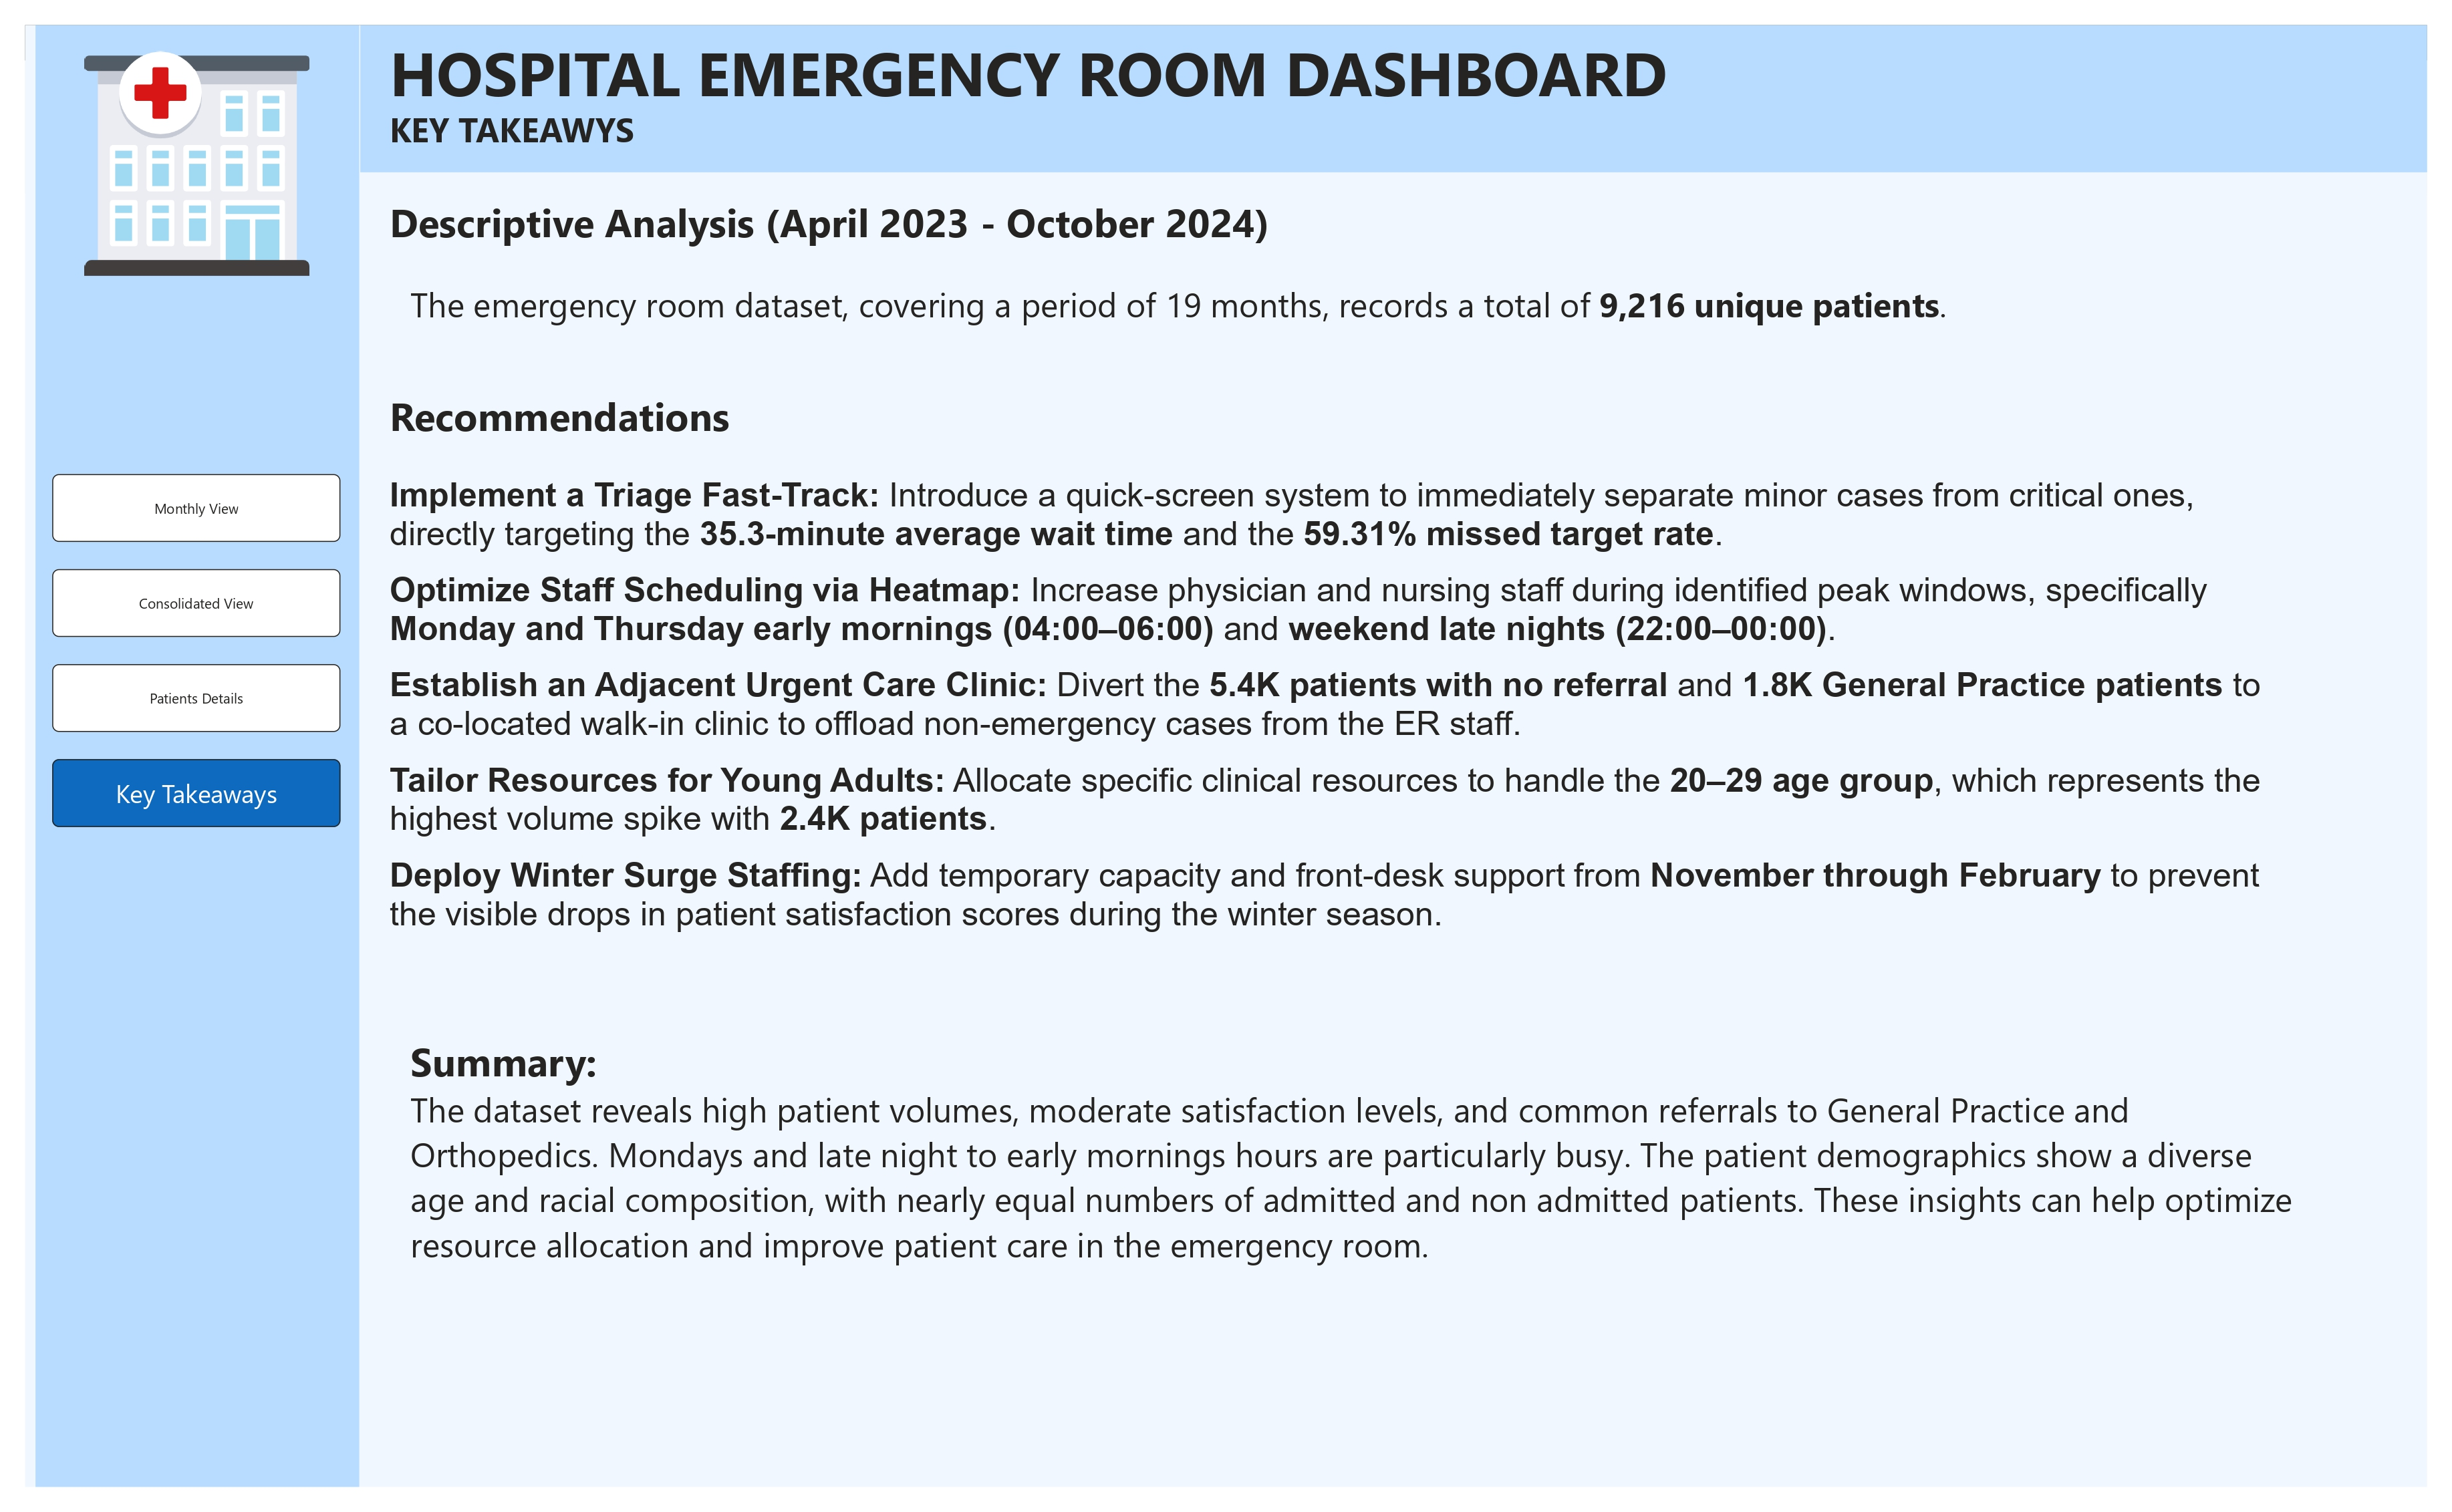

What the dashboard file says about the page in this screenshot:
{"tool":"powerbi","page":{"name":"Key Takeaways","canvas":[2300,1400],"ordinal":3},"visuals":[{"type":"shape","box":[10.3,0,310,1400],"z":0},{"type":"shape","box":[320.5,0,1979.5,141],"z":1000},{"type":"textbox","box":[344,0,1322,88],"z":2000},{"type":"textbox","box":[344,72,392,70],"z":3000},{"type":"textbox","box":[344,158,890,82],"z":4000},{"type":"textbox","box":[364,240,1804,104],"z":5000},{"type":"textbox","box":[364,962,1824,254],"z":6000},{"type":"pageNavigator","box":[26,430,276,340],"z":7000},{"type":"image","box":[37.5,25,252.5,215],"z":7001},{"type":"textbox","box":[344,344,1824,618],"z":7002}]}

Visuals, with their boxes on the page's 2300x1400 design canvas (x1, y1, x2, y2). These are canvas units, not pixel positions in the 2452x1512 screenshot, which may show the page scaled, cropped or inside an application window:
shape: 10/0/320/1400
shape: 320/0/2300/141
textbox: 344/0/1666/88
textbox: 344/72/736/142
textbox: 344/158/1234/240
textbox: 364/240/2168/344
textbox: 364/962/2188/1216
pageNavigator: 26/430/302/770
image: 38/25/290/240
textbox: 344/344/2168/962
